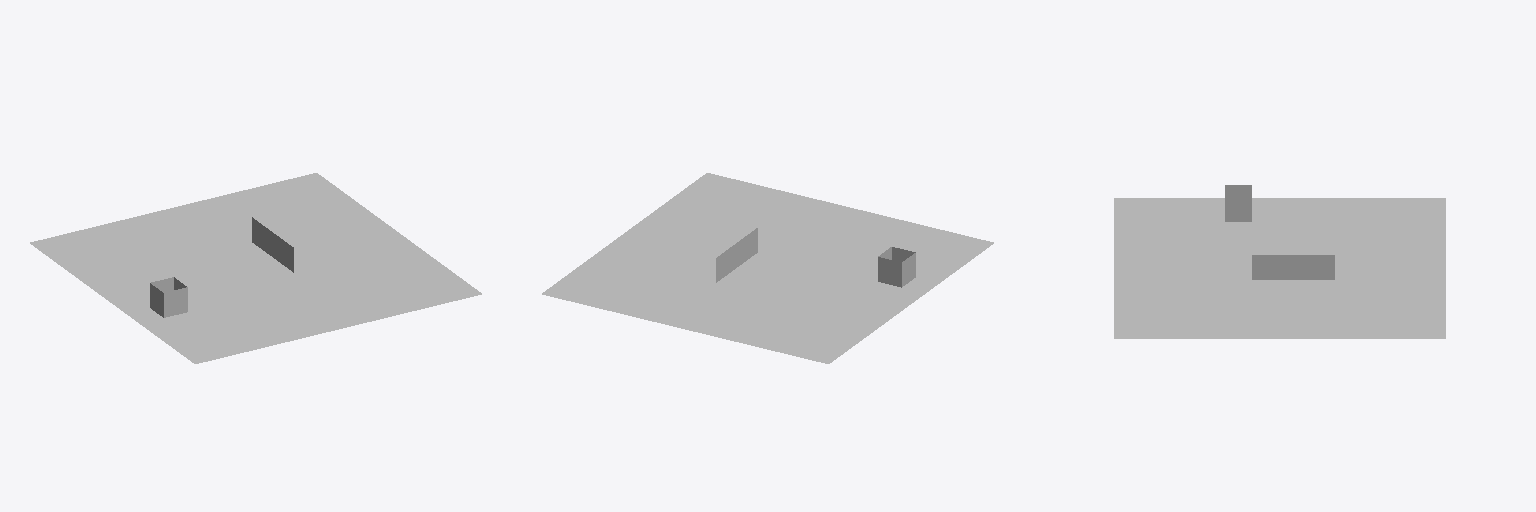
The model's file is tempmap.obj.
3 renders of one model, left to right at view 1: azimuth 30°, elevation 25°; view 2: azimuth 150°, elevation 25°; view 3: azimuth 270°, elevation 25°, orthographic.
Visible parts, largest first — view 1: Cube; view 2: Cube; view 3: Cube.
Boxes of the visible parts, box(x1,y1,x2,y2) form: Cube: box(30, 173, 481, 363); Cube: box(542, 173, 993, 363); Cube: box(1114, 185, 1445, 338).
Bounding box in the file's own units: 24 × 2 × 24.